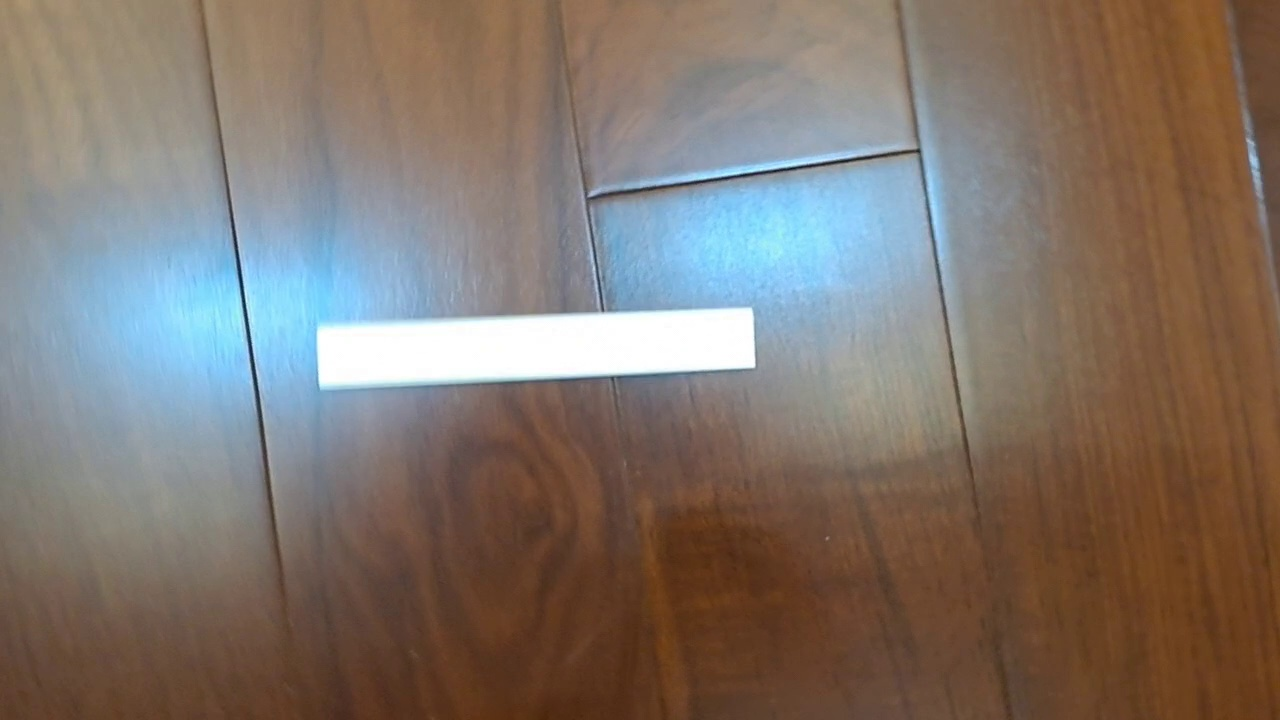ruler: (314, 305, 757, 393)
